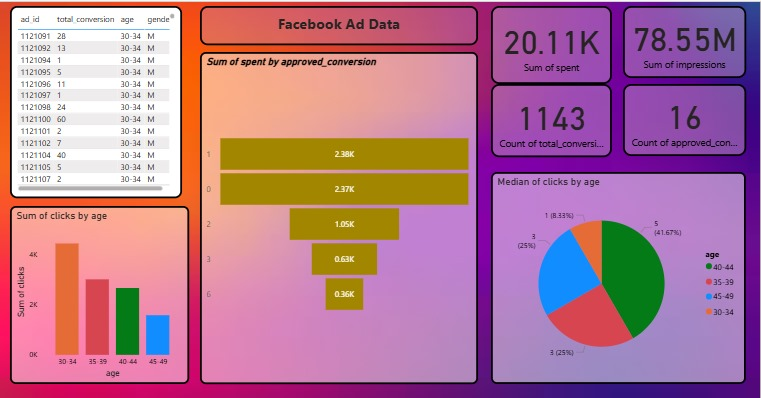

The dashboard page shown, as its layout file describes it:
{"tool":"powerbi","page":{"name":"Page 1","canvas":[1280,720],"ordinal":0},"visuals":[{"type":"textbox","box":[398.1,37,430,48.7],"z":0},{"type":"lineStackedColumnComboChart","fields":{"Category":["data.age"],"Y":["Sum(data.clicks)"]},"box":[20.2,398.1,300.7,299],"z":1000},{"type":"funnel","fields":{"Y":["Sum(data.spent)"],"Category":["data.approved_conversion"]},"box":[339.3,139.4,467,557.7],"z":2000},{"type":"tableEx","fields":{"Values":["data.ad_id","data.total_conversion","data.age","data.gender"]},"box":[20.2,85.7,288.9,299],"z":3000},{"type":"card","fields":{"Values":["Sum(data.impressions)"]},"box":[1049.9,62.2,206.6,120.9],"z":3001},{"type":"card","fields":{"Values":["Sum(data.spent)"]},"box":[828.1,62.2,203.3,131],"z":3002},{"type":"card","fields":{"Values":["CountNonNull(data.total_conversion)"]},"box":[828.1,193.2,203.3,122.6],"z":3003},{"type":"card","fields":{"Values":["Count(data.approved_conversion)"]},"box":[1049.9,193.2,206.6,120.9],"z":3004},{"type":"pieChart","fields":{"Category":["data.age"],"Y":["Median(data.clicks)"]},"box":[828.1,341,428.3,356.1],"z":3005}]}

Visuals, with their boxes in screenshot pixels (x1, y1, x2, y2):
textbox: region(233, 0, 486, 23)
lineStackedColumnComboChart - data.age x Sum(data.clicks): region(12, 206, 188, 381)
funnel - Sum(data.spent) x data.approved_conversion: region(199, 54, 473, 381)
tableEx - data.ad_id x data.total_conversion: region(12, 23, 181, 198)
card - Sum(data.impressions): region(616, 9, 737, 80)
card - Sum(data.spent): region(486, 9, 605, 86)
card - CountNonNull(data.total_conversion): region(486, 86, 605, 157)
card - Count(data.approved_conversion): region(616, 86, 737, 156)
pieChart - data.age x Median(data.clicks): region(486, 172, 737, 381)
